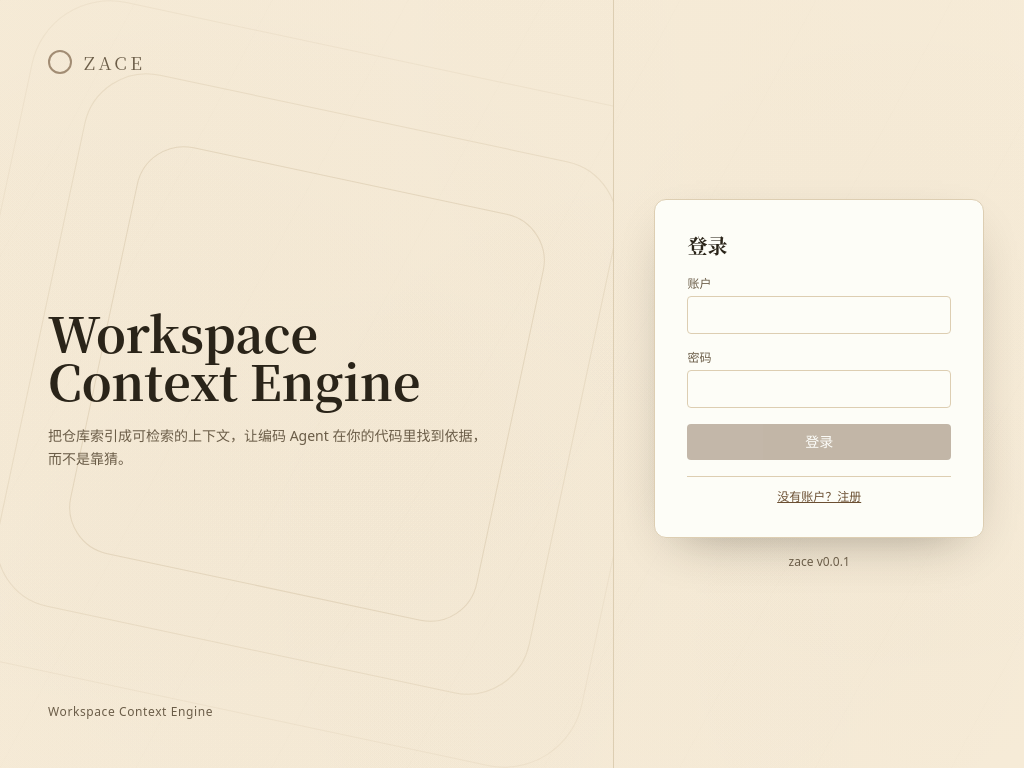
Scenario: 邀请码注册（TASK-110 §1.1） › 注册表单有邀请码输入框，登录表单没有
Check: the heading "登录" is shown, box [687,230,728,260]
Check: the field labelled "邀请码" is not shown
Click the button "没有账户？注册".
click(819, 496)  # box [777,488,861,504]
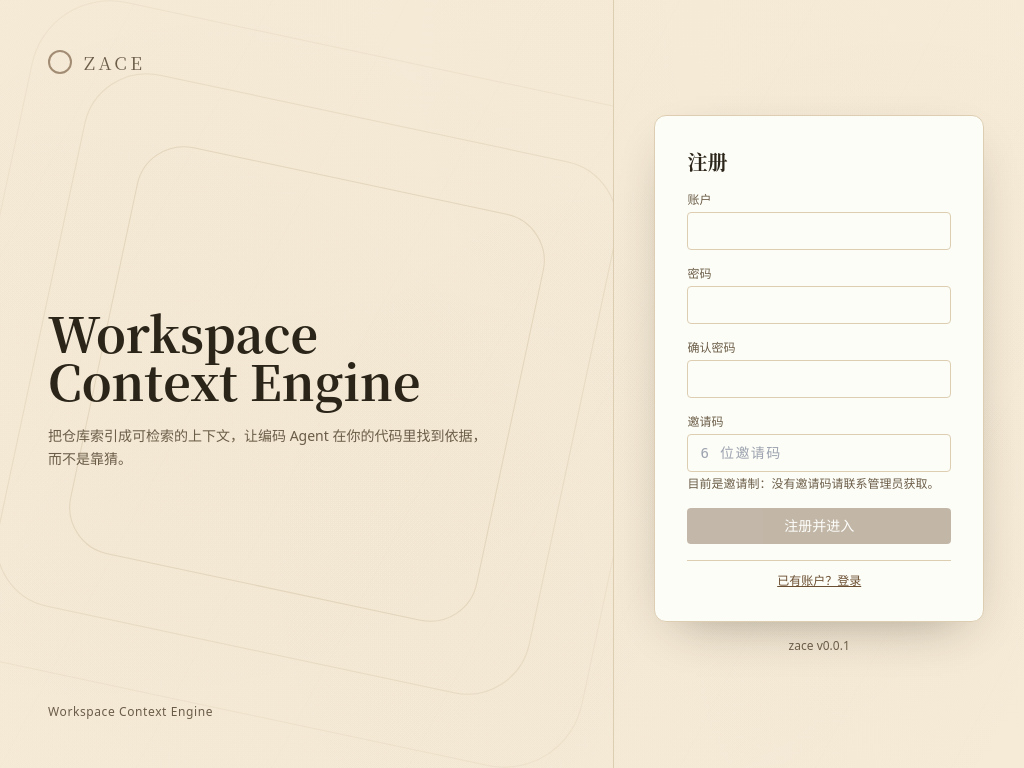
Check: the field labelled "邀请码" is shown, box [687,434,951,472]
Check: the text "目前是邀请制：没有邀请码请联系管理员获取。" is shown, box [687,476,951,492]
